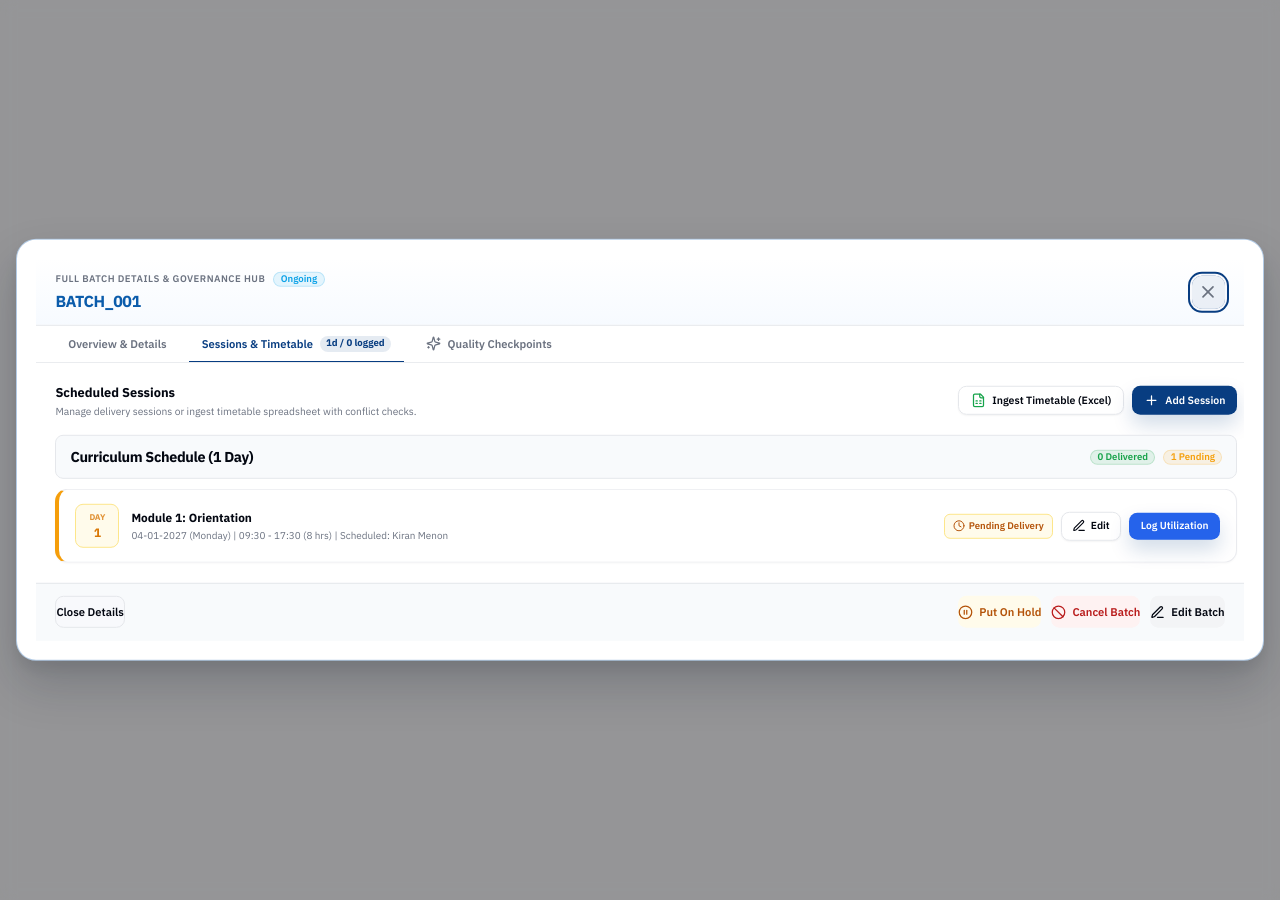
Test: Log Faculty Utilization modal › warns when the hours do not match the time window
The width and height of the screenshot is (1280, 900).
Click the button "Log Utilization": (1175, 526) [1129,513,1220,540]
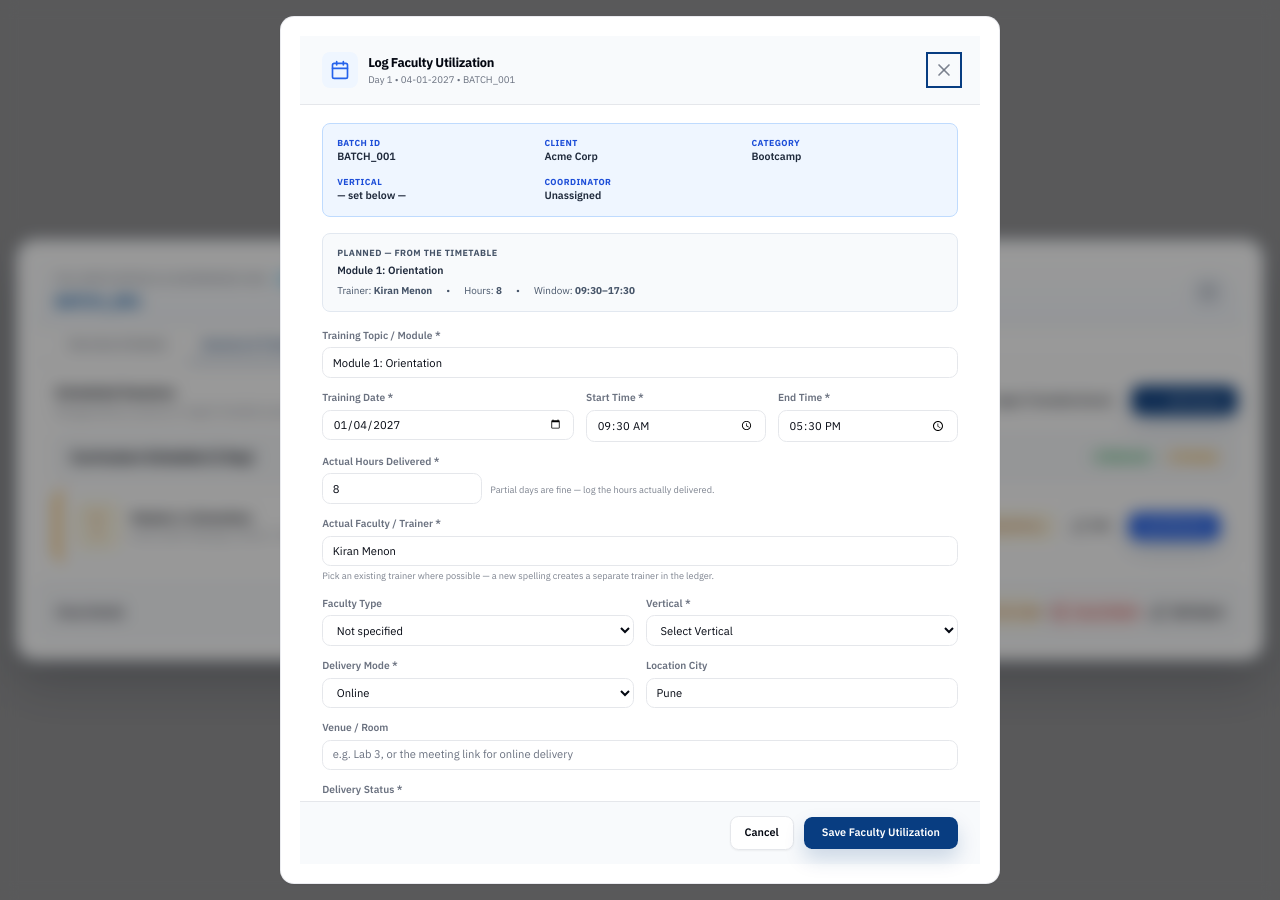
expect the dialog "Log Faculty Utilization" is shown: met, box [280,16,1000,884]
Replace the text in the number field labelled "Actual Hours Delivered *" with "4": (402, 489) [322,473,482,504]
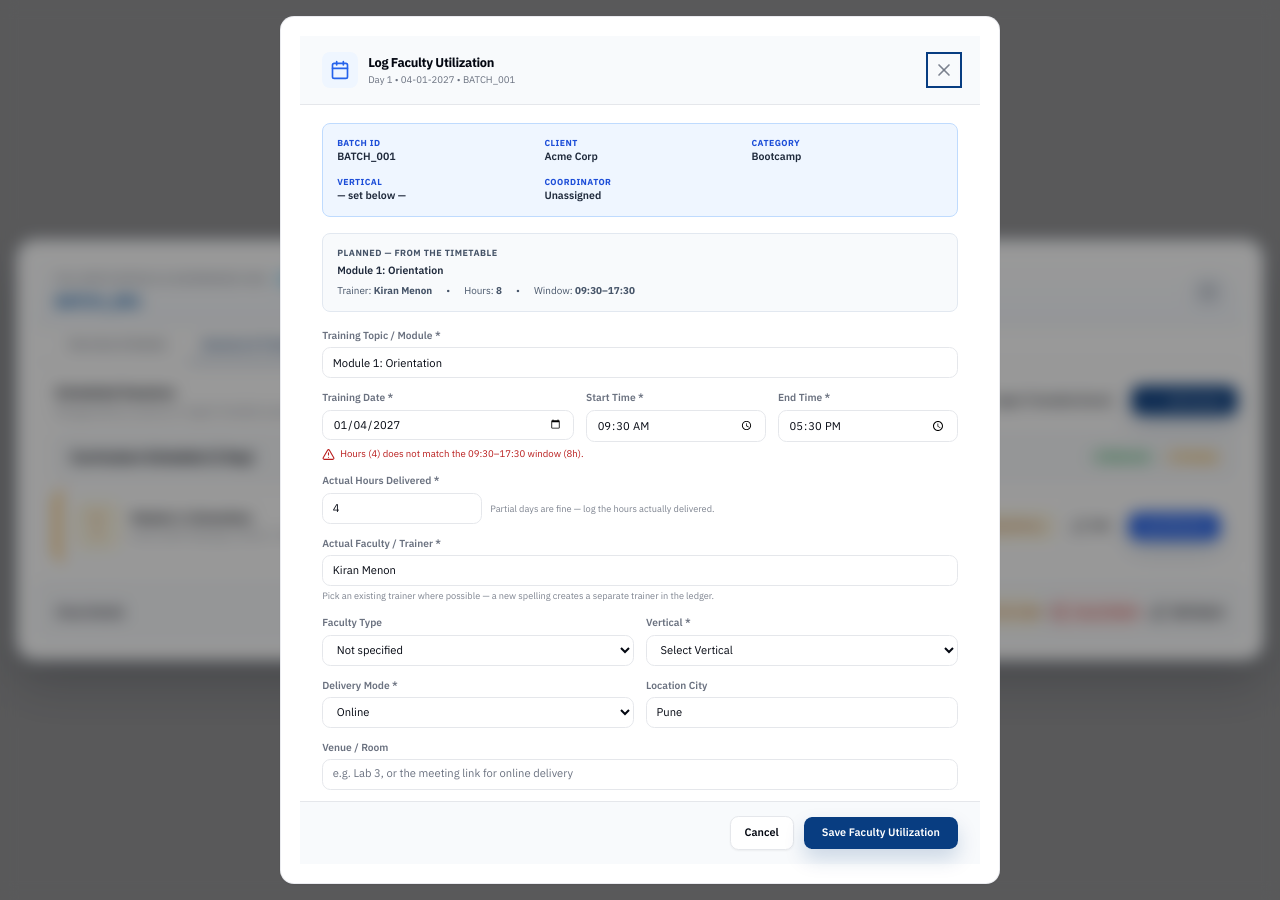
expect the text "Hours (4) does not match the 09:30–17:30 window (8h)." is shown: met, box [322,447,584,461]
